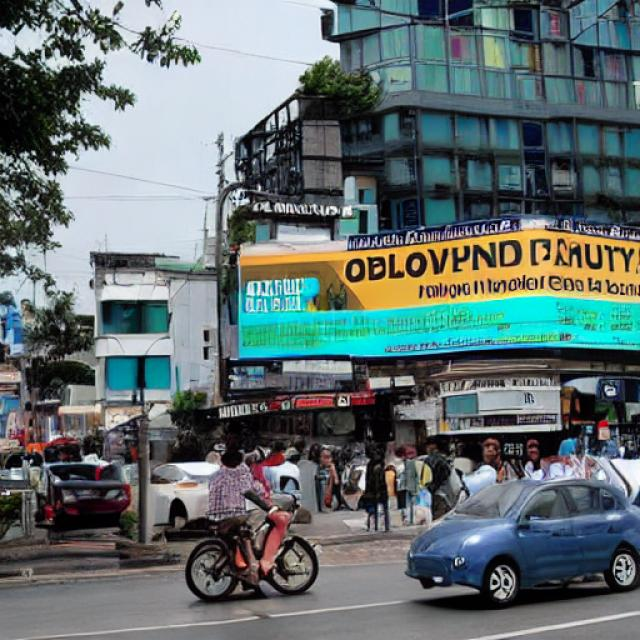Billboard: (237, 215, 640, 366)
